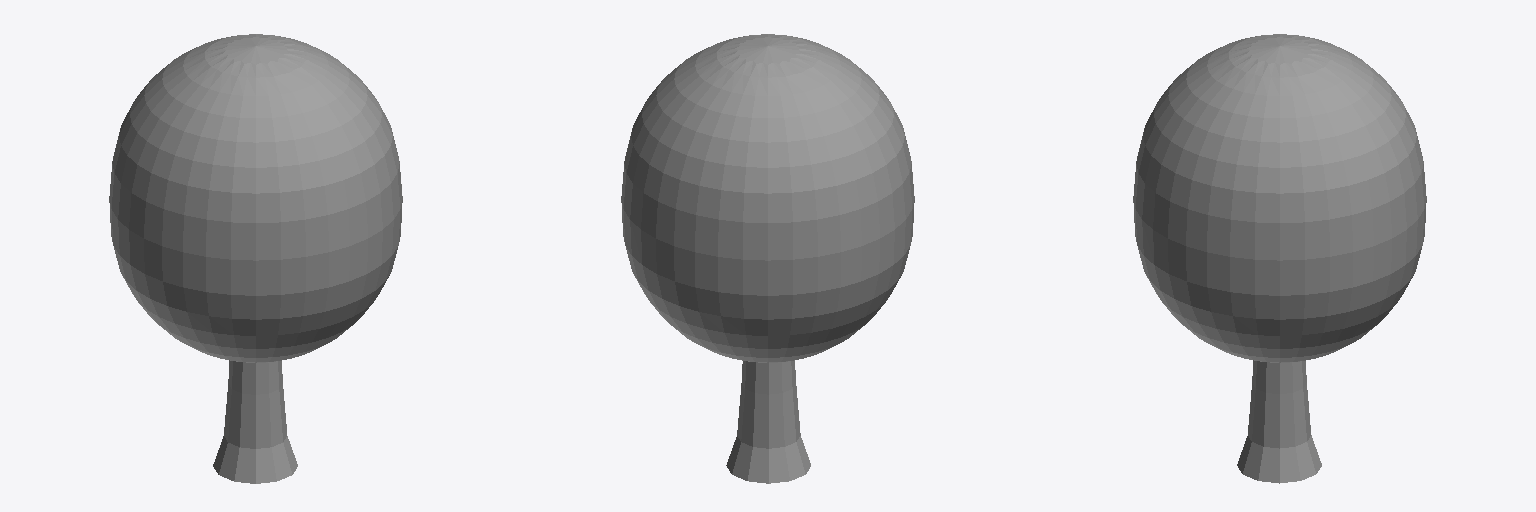
Rendered from tree3.obj.
3 renders of one model, left to right at view 1: azimuth 30°, elevation 25°; view 2: azimuth 150°, elevation 25°; view 3: azimuth 270°, elevation 25°, orthographic.
Parts seen in each view (by area): view 1: Cartoon_tree_1; view 2: Cartoon_tree_1; view 3: Cartoon_tree_1.
Boxes of the visible parts, x1,y1,x2,y2 form: Cartoon_tree_1: [109, 34, 402, 483]; Cartoon_tree_1: [621, 34, 914, 483]; Cartoon_tree_1: [1133, 34, 1426, 483].
Bounding box in the file's own units: 13.26 × 20.92 × 13.26.